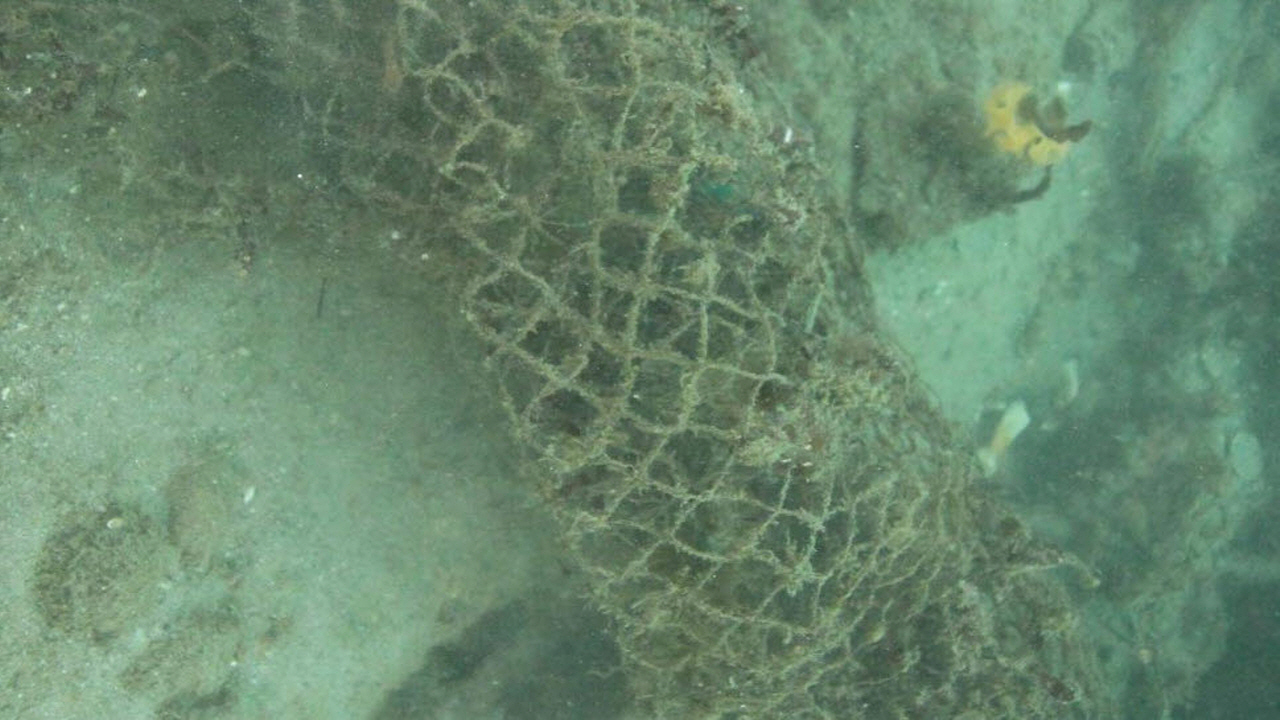fish net: (240, 0, 1112, 720)
